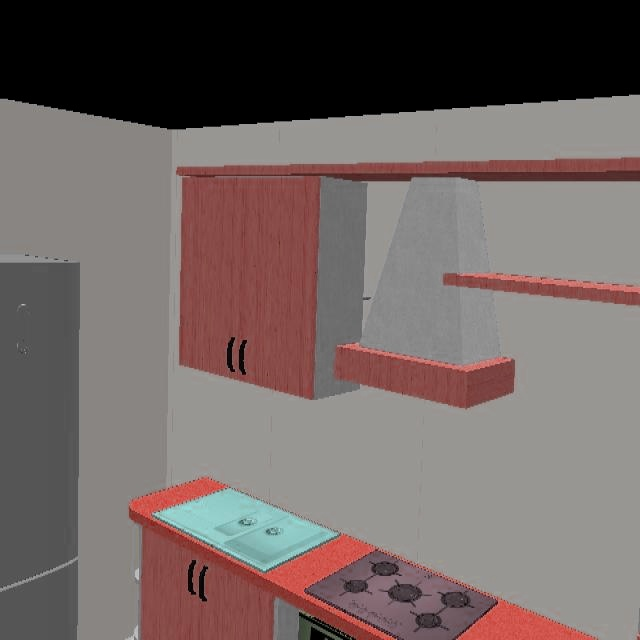countertop: (129, 477, 399, 640), (456, 599, 588, 640)
fridge: (0, 256, 82, 640)
oven: (296, 617, 355, 640)
sink: (153, 489, 341, 575)
stove: (304, 549, 506, 640)
